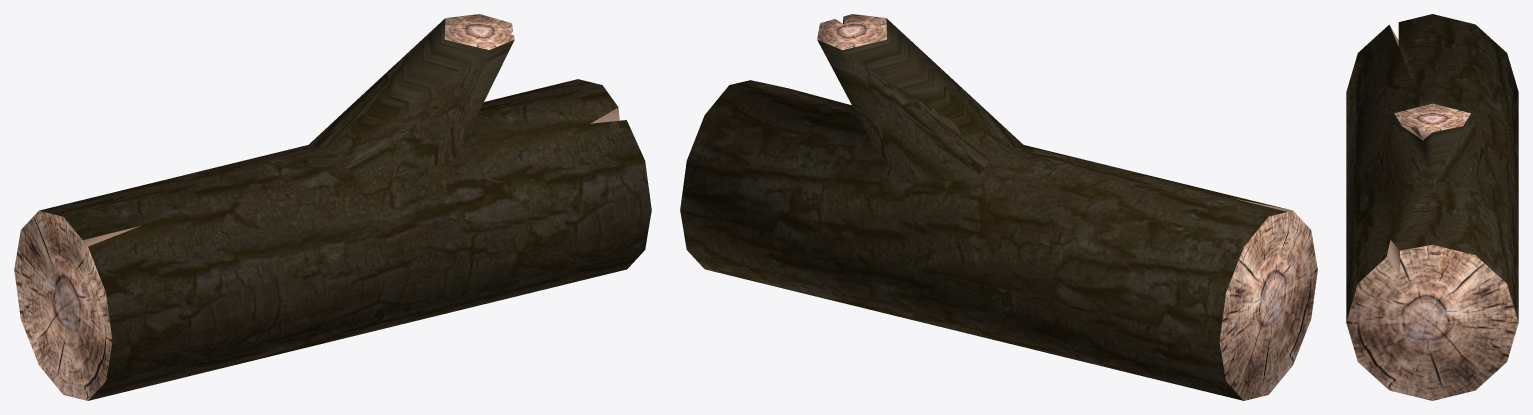
File: WisteriaLog.glb
3 views of the same model, side by side, from view 1: azimuth 30°, elevation 25°; view 2: azimuth 150°, elevation 25°; view 3: azimuth 270°, elevation 25° (orthographic). The views are drawn at different scales.
Visible parts, largest first — view 1: Cylinder, Cylinder.001; view 2: Cylinder, Cylinder.001; view 3: Cylinder, Cylinder.001.
Part boxes in pixels (bbox=[...]): Cylinder: bbox=[39, 18, 651, 400]; Cylinder.001: bbox=[14, 14, 619, 400]; Cylinder: bbox=[680, 18, 1289, 400]; Cylinder.001: bbox=[758, 14, 1317, 400]; Cylinder: bbox=[1346, 14, 1518, 321]; Cylinder.001: bbox=[1346, 26, 1518, 400].
Size of the model in its own units: 3.38 by 1.57 by 1.07.
2 materials, 2 textured.
